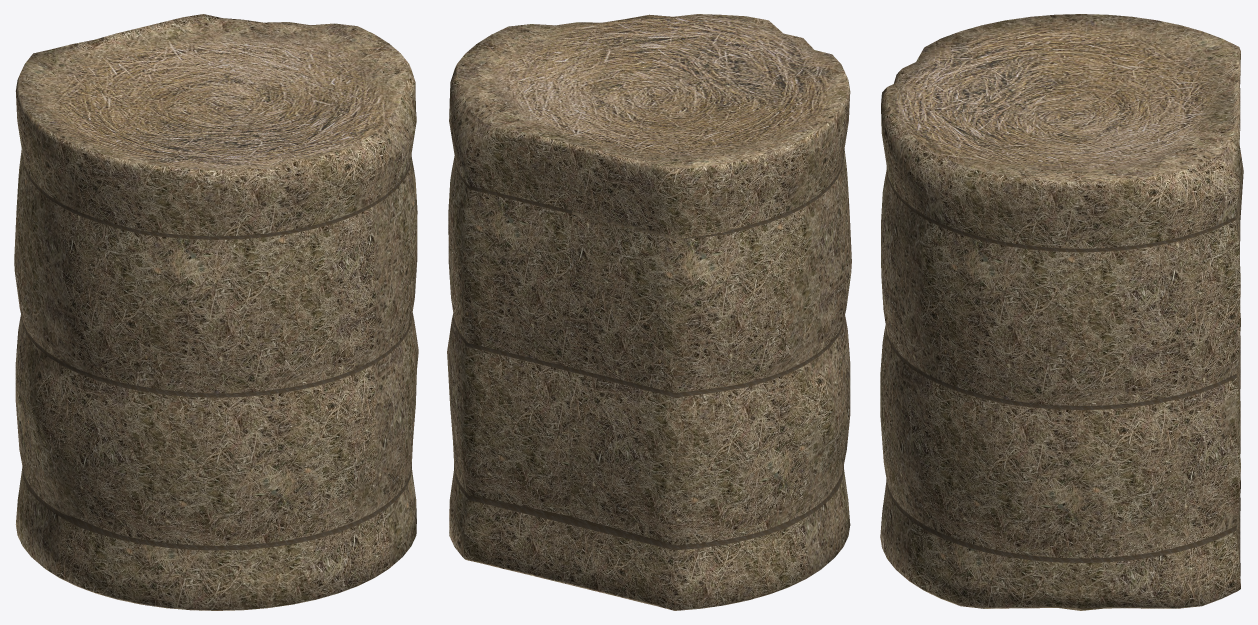
File: round.gltf
3 views of the same model, side by side, from view 1: azimuth 30°, elevation 25°; view 2: azimuth 150°, elevation 25°; view 3: azimuth 270°, elevation 25° (orthographic).
Visible parts, largest first — view 1: round; view 2: round; view 3: round.
Boxes of the visible parts, left/top/right/bottom form: round: left=14, top=14, right=418, bottom=610; round: left=447, top=14, right=851, bottom=610; round: left=880, top=14, right=1243, bottom=610.
Bounding box in the file's own units: 1.33 × 1.57 × 1.17.
Materials: 1 (1 with a texture image).
